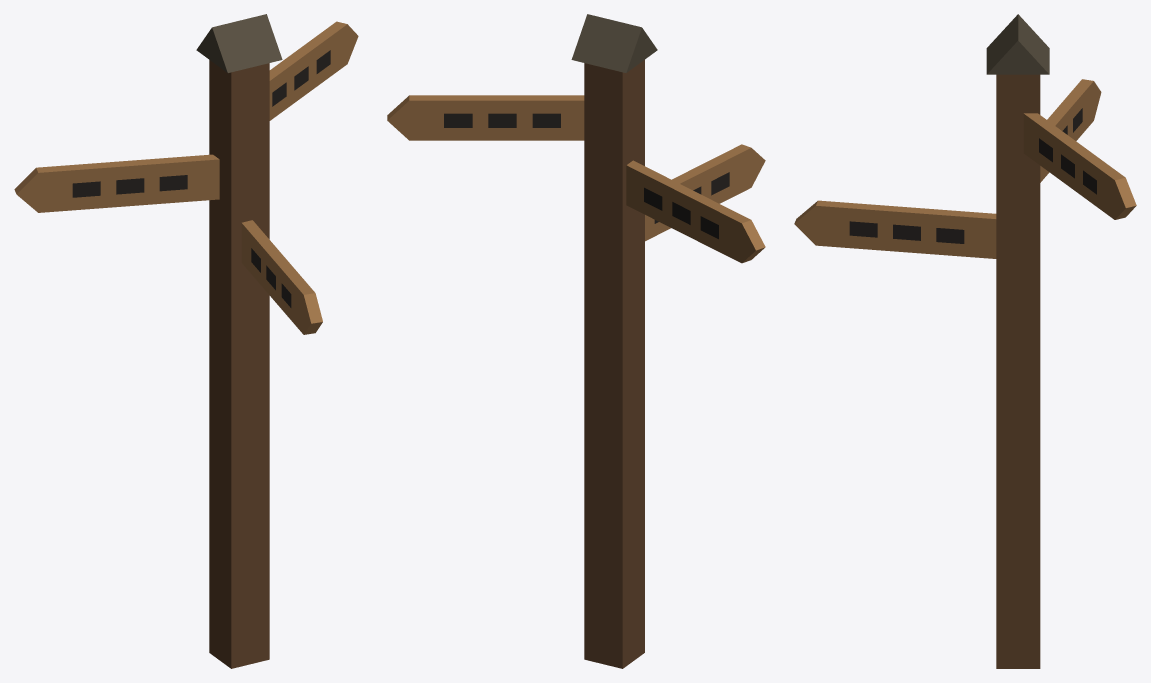
Rendered from Fingerpost.fbx.
3 views of the same model, side by side, from view 1: azimuth 30°, elevation 25°; view 2: azimuth 150°, elevation 25°; view 3: azimuth 270°, elevation 25° (orthographic).
Parts seen in each view (by area): view 1: Fingerpost; view 2: Fingerpost; view 3: Fingerpost.
Boxes of the visible parts, x1,y1,x2,y2 form: Fingerpost: (14,14,358,668); Fingerpost: (387,14,765,668); Fingerpost: (794,14,1136,668).
Bounding box in the file's own units: 1.32 × 2.22 × 1.09.
